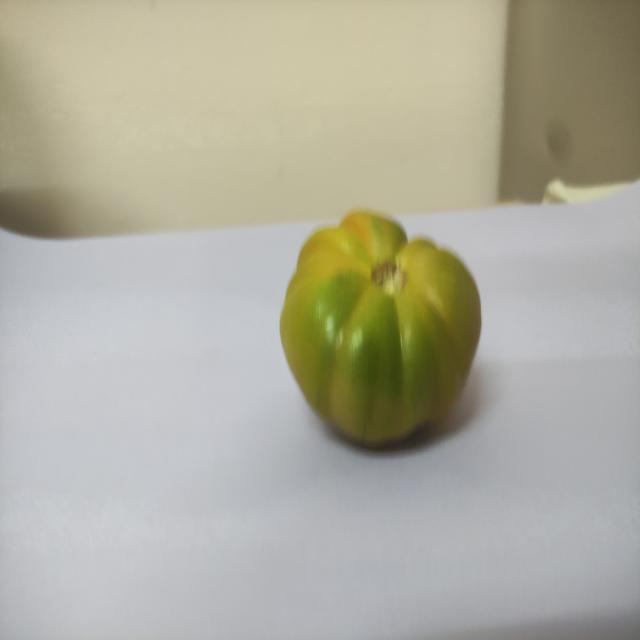yesil: (274, 194, 505, 452)
